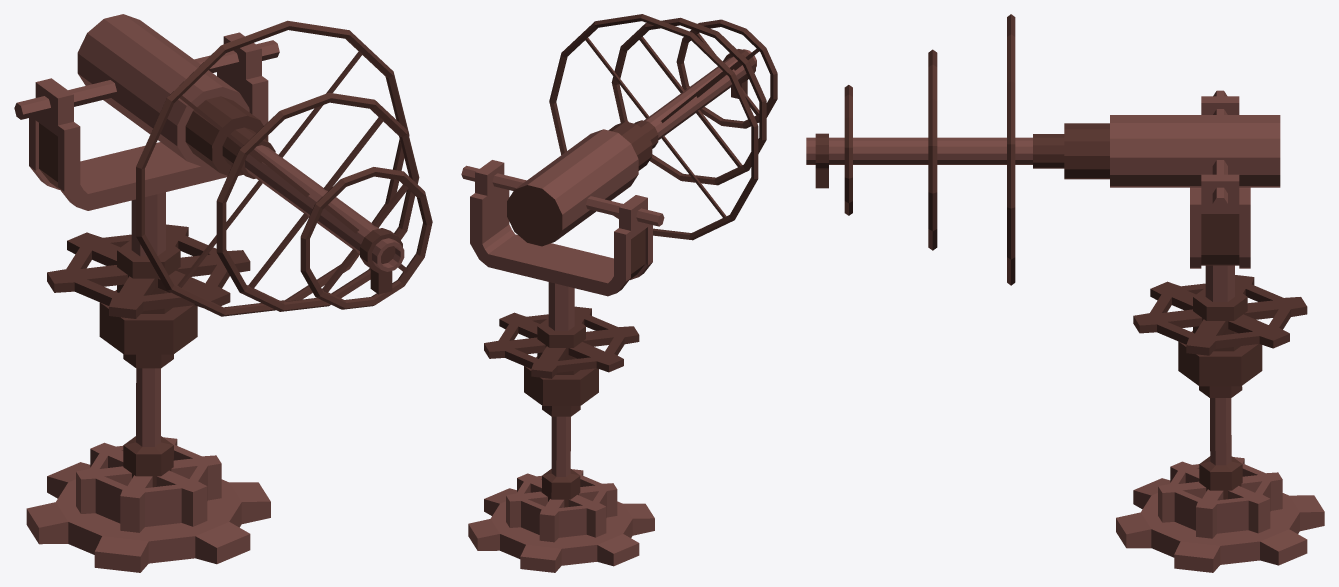
File: laser_1.glb
3 views of the same model, side by side, from view 1: azimuth 30°, elevation 25°; view 2: azimuth 150°, elevation 25°; view 3: azimuth 270°, elevation 25° (orthographic). The views are drawn at different scales.
Visible parts, largest first — view 1: _MeshInstance3D_191, _MeshInstance3D_192, _MeshInstance3D_190; view 2: _MeshInstance3D_192, _MeshInstance3D_191, _MeshInstance3D_190; view 3: _MeshInstance3D_191, _MeshInstance3D_192, _MeshInstance3D_190.
Boxes of the visible parts, left/top/right/bottom form: _MeshInstance3D_191: left=77, top=14, right=432, bottom=316; _MeshInstance3D_192: left=14, top=32, right=279, bottom=487; _MeshInstance3D_190: left=26, top=437, right=270, bottom=572; _MeshInstance3D_192: left=461, top=160, right=664, bottom=507; _MeshInstance3D_191: left=507, top=14, right=777, bottom=246; _MeshInstance3D_190: left=468, top=469, right=654, bottom=572; _MeshInstance3D_191: left=806, top=14, right=1280, bottom=285; _MeshInstance3D_192: left=1133, top=90, right=1307, bottom=499; _MeshInstance3D_190: left=1116, top=457, right=1324, bottom=572.
Bounding box in the file's own units: 0.9975 × 2.05 × 1.91.
